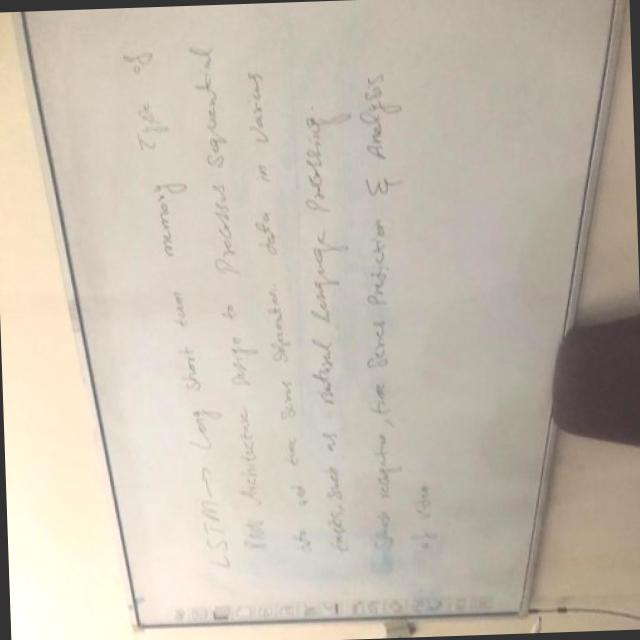White-board: (19, 0, 614, 626)
